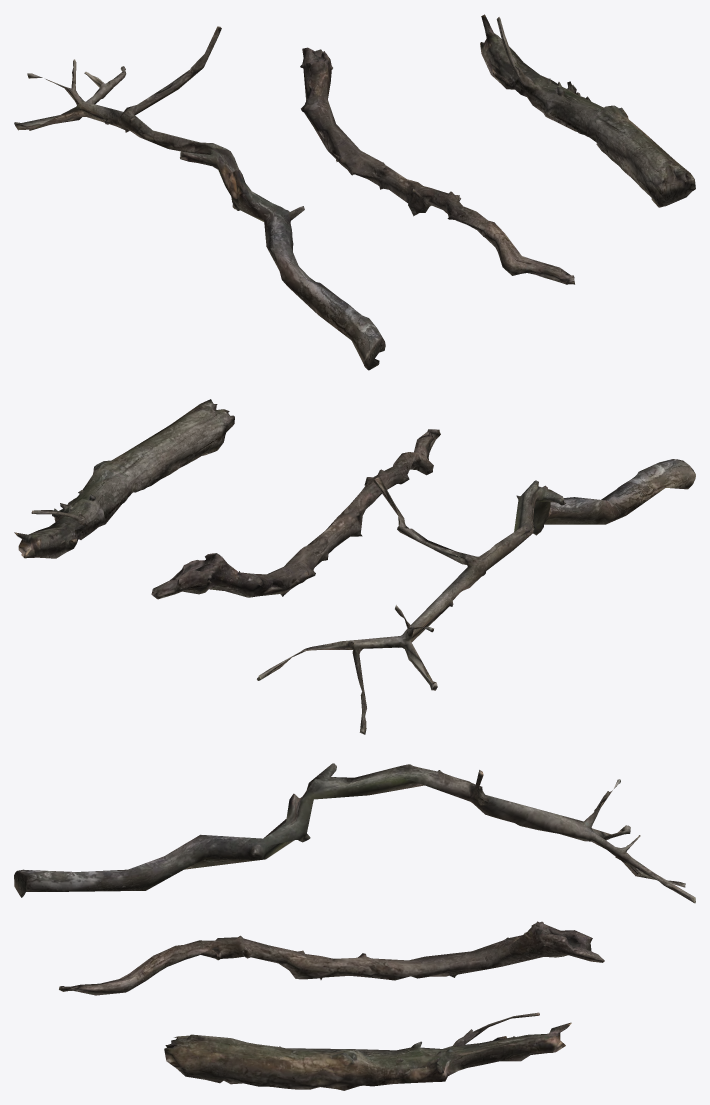
File: branches.glb
The picture shows the model from 3 angles, top to bottom: view 1: azimuth 30°, elevation 25°; view 2: azimuth 150°, elevation 25°; view 3: azimuth 270°, elevation 25°; orthographic projection. The views are drawn at different scales.
Visible parts, largest first — view 1: dry_branches_medium_01_a, dry_branches_medium_01_c, dry_branches_medium_01_b; view 2: dry_branches_medium_01_a, dry_branches_medium_01_c, dry_branches_medium_01_b; view 3: dry_branches_medium_01_a, dry_branches_medium_01_c, dry_branches_medium_01_b.
Part boxes in pixels (x1=…): dry_branches_medium_01_a: x1=14, y1=26, x2=385, y2=370; dry_branches_medium_01_c: x1=480, y1=14, x2=695, y2=207; dry_branches_medium_01_b: x1=300, y1=47, x2=574, y2=284; dry_branches_medium_01_a: x1=257, y1=459, x2=695, y2=734; dry_branches_medium_01_c: x1=14, y1=399, x2=234, y2=558; dry_branches_medium_01_b: x1=151, y1=429, x2=440, y2=599; dry_branches_medium_01_a: x1=14, y1=763, x2=695, y2=903; dry_branches_medium_01_c: x1=164, y1=1012, x2=571, y2=1090; dry_branches_medium_01_b: x1=59, y1=921, x2=604, y2=995.
Size of the model in its own units: 1.06 by 0.34 by 1.3.
Materials: 1 (1 with a texture image).
